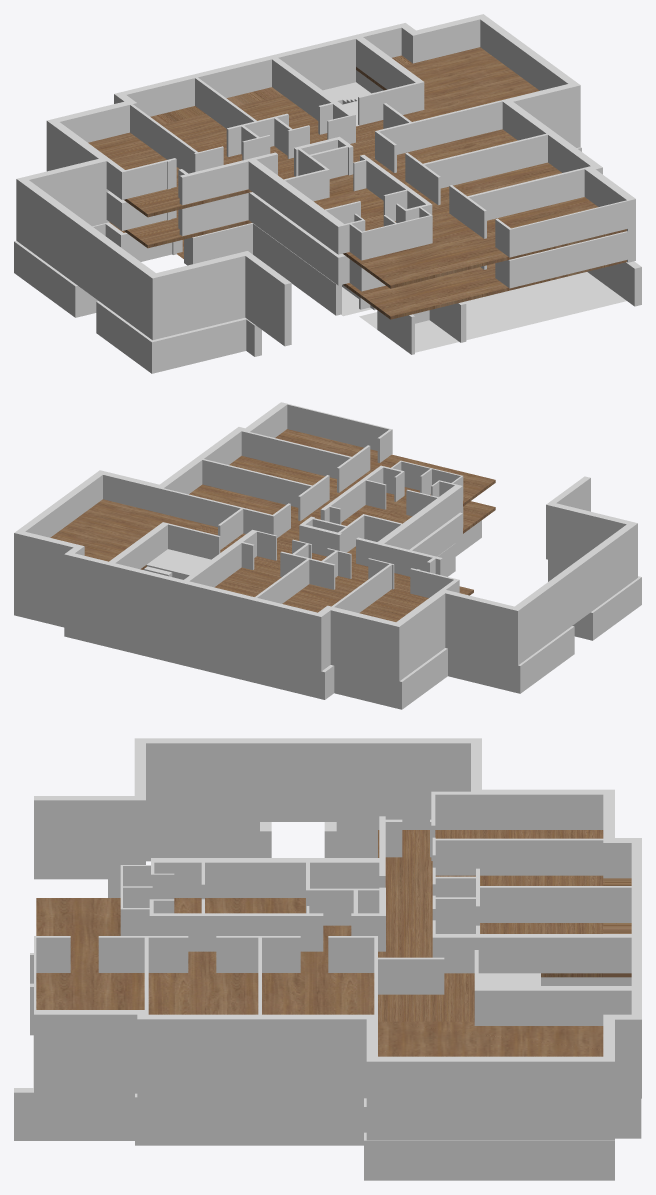
The model's file is Main.fbx.
3 views of the same model, one above another, from view 1: azimuth 30°, elevation 25°; view 2: azimuth 150°, elevation 25°; view 3: azimuth 270°, elevation 25° (orthographic). The views are drawn at different scales.
Parts seen in each view (by area): view 1: Plane.199, Plane.146, Plane.061, Plane.196, Plane.200, Plane.138, Plane.069, Plane.130, Plane.162, Plane.181, Plane.174, Plane.094 (+55 smaller); view 2: Plane.146, Plane.004, Plane.122, Plane.199, Plane.200, Plane.138, Plane.130, Plane.196, Plane.178, Plane.181, Plane.176, Plane.150 (+49 smaller); view 3: Plane.199, Plane.138, Plane.130, Plane.018, Plane.143, Plane.141, Plane, Plane.125, Plane.197, Plane.127, Plane.195, Plane.162 (+38 smaller).
Part boxes in pixels (left/top/right/bottom): Plane.199: left=314, top=129, right=626, bottom=288; Plane.146: left=122, top=23, right=409, bottom=116; Plane.061: left=359, top=272, right=626, bottom=352; Plane.196: left=88, top=87, right=327, bottom=169; Plane.200: left=356, top=47, right=539, bottom=118; Plane.138: left=20, top=180, right=160, bottom=309; Plane.069: left=343, top=260, right=626, bottom=319; Plane.130: left=20, top=213, right=160, bottom=340; Plane.162: left=248, top=159, right=345, bottom=254; Plane.181: left=375, top=100, right=502, bottom=159; Plane.174: left=511, top=200, right=627, bottom=256; Plane.094: left=511, top=231, right=627, bottom=287; Plane.146: left=64, top=552, right=317, bottom=642; Plane.004: left=72, top=611, right=329, bottom=699; Plane.122: left=64, top=581, right=314, bottom=669; Plane.199: left=189, top=429, right=495, bottom=560; Plane.200: left=50, top=499, right=202, bottom=569; Plane.138: left=515, top=521, right=637, bottom=635; Plane.130: left=521, top=551, right=637, bottom=662; Plane.196: left=214, top=567, right=414, bottom=621; Plane.178: left=202, top=459, right=312, bottom=507; Plane.181: left=162, top=488, right=274, bottom=534; Plane.176: left=248, top=432, right=351, bottom=478; Plane.150: left=438, top=589, right=521, bottom=638; Plane.199: left=36, top=898, right=374, bottom=1014; Plane.138: left=134, top=738, right=470, bottom=782; Plane.130: left=146, top=782, right=470, bottom=821; Plane.018: left=135, top=1093, right=363, bottom=1145; Plane.143: left=366, top=1056, right=603, bottom=1100; Plane.141: left=137, top=1014, right=366, bottom=1058; Plane: left=374, top=1140, right=614, bottom=1180; Plane.125: left=366, top=1101, right=603, bottom=1140; Plane.197: left=378, top=830, right=474, bottom=1021; Plane.127: left=137, top=1059, right=366, bottom=1098; Plane.195: left=432, top=934, right=631, bottom=973; Plane.162: left=151, top=858, right=379, bottom=897.
Bounding box in the file's own units: 5194 × 948 × 4241.
